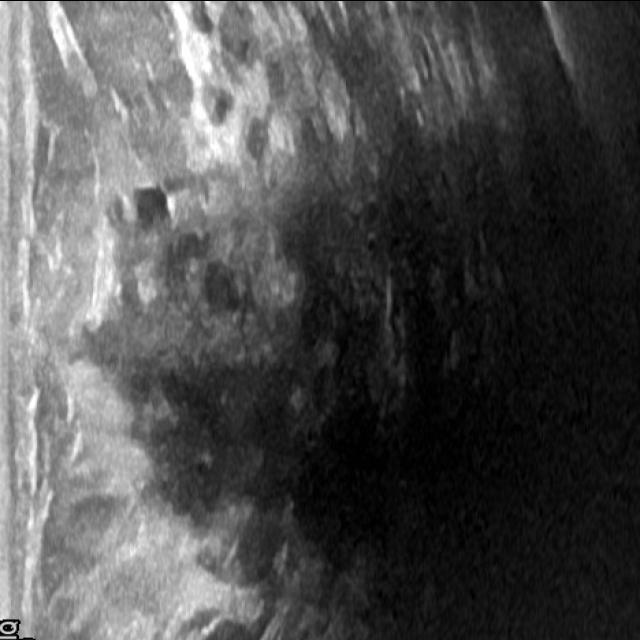Malignant: (30, 42, 621, 610)
